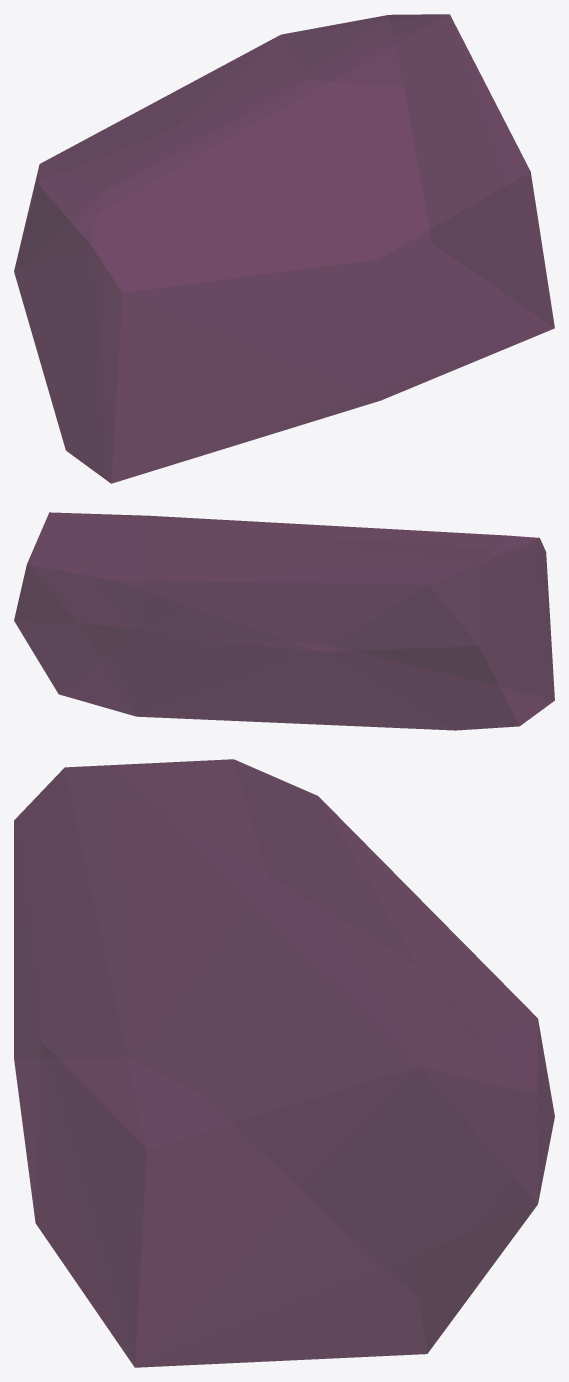
3 views of the same model, one above another, from view 1: azimuth 30°, elevation 25°; view 2: azimuth 150°, elevation 25°; view 3: azimuth 270°, elevation 25° (orthographic). The views are drawn at different scales.
Parts seen in each view (by area): view 1: Shape_IndexedFaceSet.009_Shape_IndexedFaceSet.10834; view 2: Shape_IndexedFaceSet.009_Shape_IndexedFaceSet.10834; view 3: Shape_IndexedFaceSet.009_Shape_IndexedFaceSet.10834.
Boxes of the visible parts, x1,y1,x2,y2 form: Shape_IndexedFaceSet.009_Shape_IndexedFaceSet.10834: (14,14,554,483); Shape_IndexedFaceSet.009_Shape_IndexedFaceSet.10834: (14,512,554,730); Shape_IndexedFaceSet.009_Shape_IndexedFaceSet.10834: (14,759,554,1367).
Size of the model in its own units: 0.4183 by 0.1902 by 0.3042.
